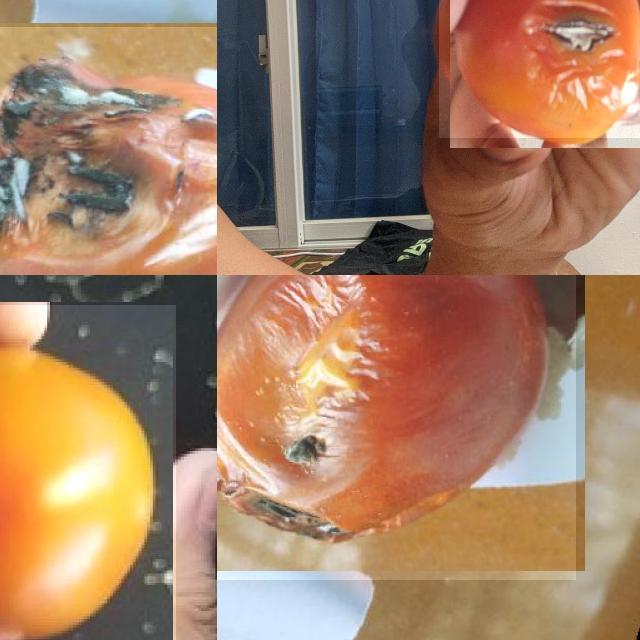Fresh Tomato: (0, 304, 175, 640)
Rotten Tomato: (217, 275, 575, 580), (0, 27, 217, 275), (438, 0, 640, 138)
